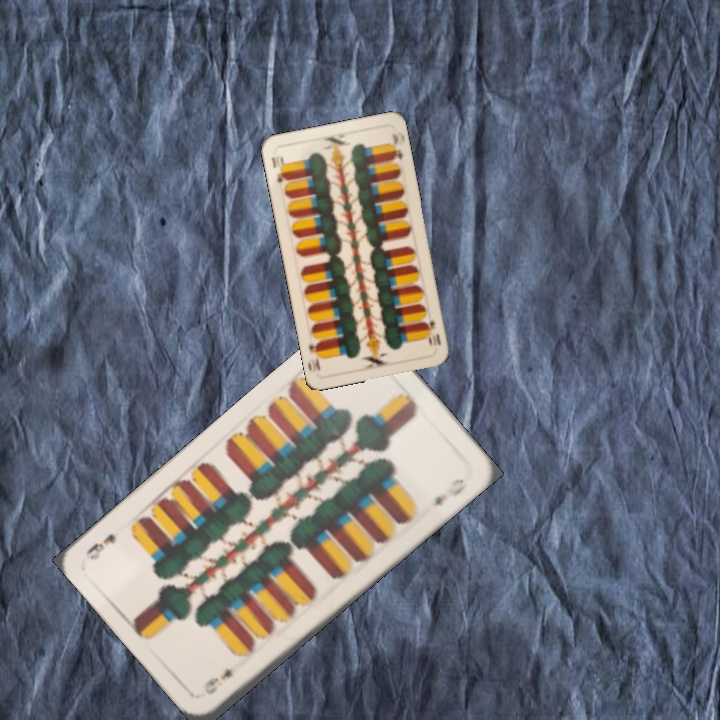E10: (268, 151, 290, 185), (421, 316, 443, 348)
E9: (200, 663, 236, 697)
